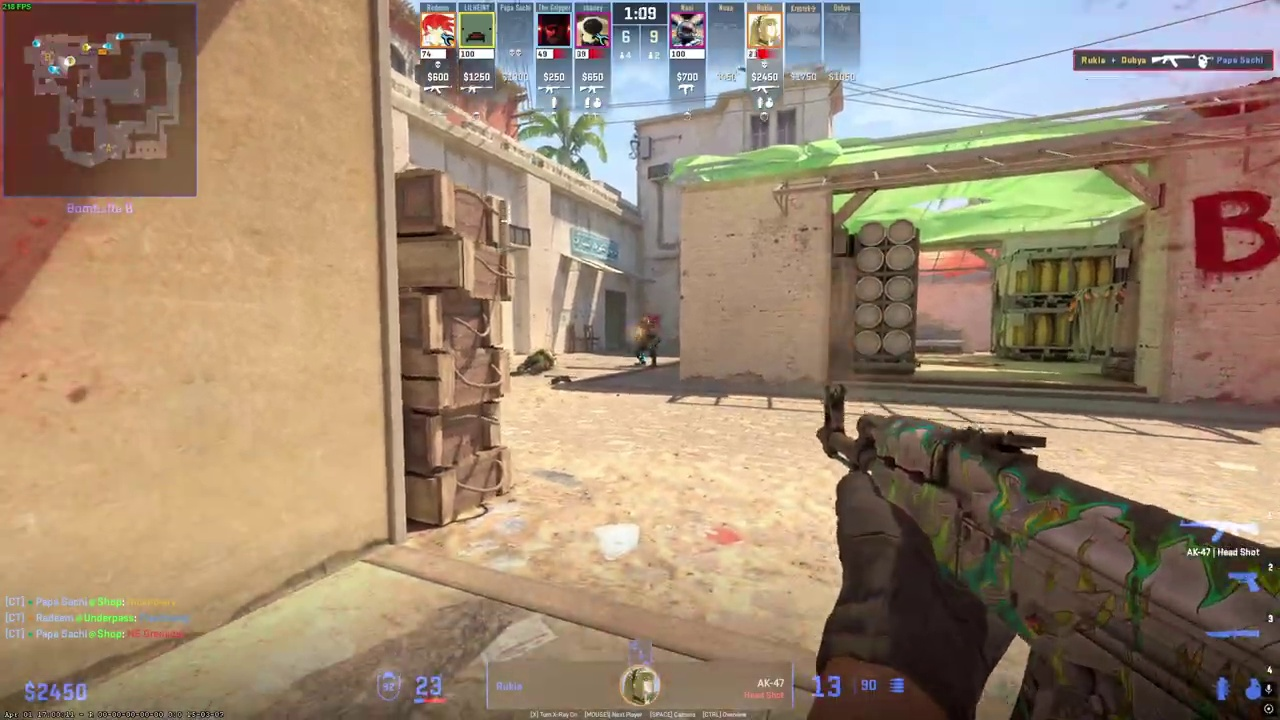CT: (635, 317, 660, 368)
